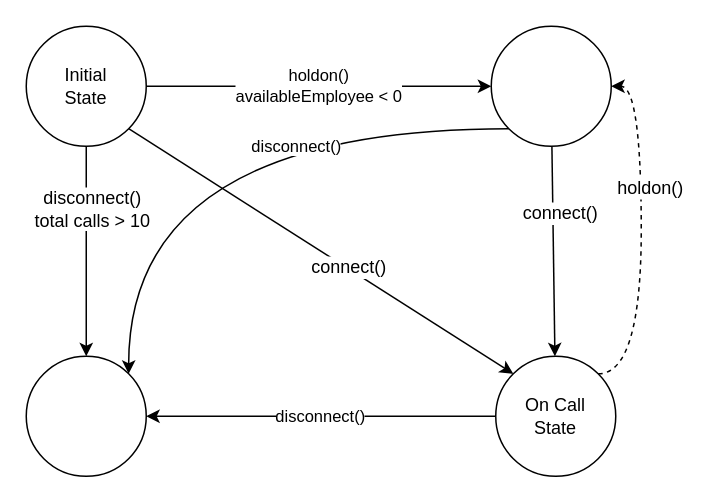
Image size: 708x503. Some labels were removed from this diagram. The box of each missing label's shape, as (x1, y1, x2, y2) in pixels:
Finished State: (25, 355, 146, 476)
Waiting State: (490, 25, 611, 146)
